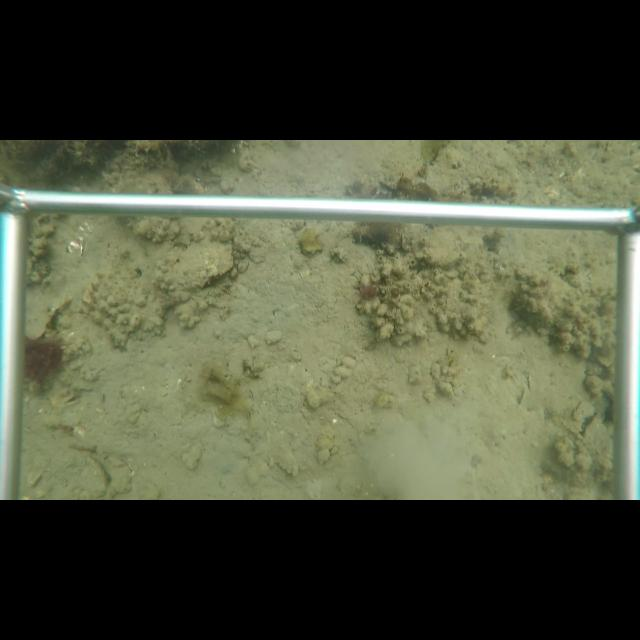Oyster-Closed: (162, 234, 235, 290), (77, 454, 110, 491)
